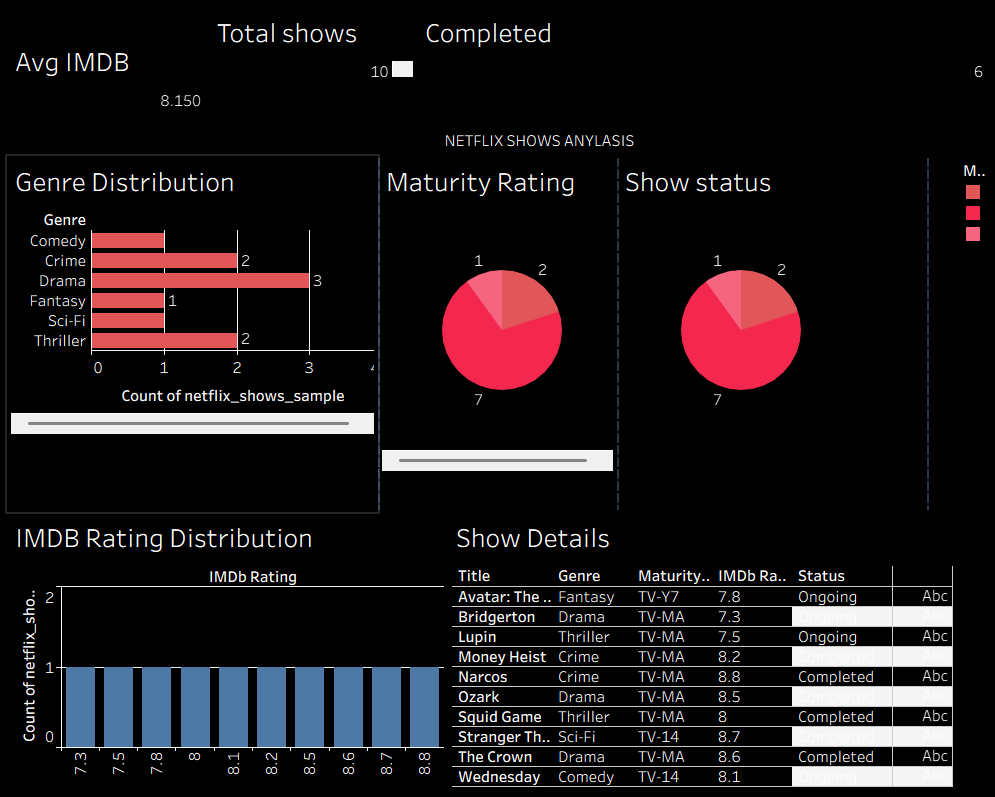

The dashboard page shown, as its layout file describes it:
{"tool":"tableau","page":{"name":"Dashboard 1","canvas":[1000,800],"ordinal":0},"visuals":[{"type":"text","box":[8,8,202,29]},{"type":"worksheet","title":"Total shows","mark":"Automatic","box":[210,8,208,74.5]},{"type":"worksheet","title":"Completed","mark":"Automatic","box":[418,8,574,117]},{"type":"worksheet","title":"Avg IMDB","mark":"Automatic","box":[8,37,202,120]},{"type":"text","box":[210,82.5,208,74.5]},{"type":"text","box":[418,125,574,32]},{"type":"worksheet","title":"Genre Distribution","mark":"Automatic","rows":["Genre"],"cols":["netflix!shows!sample_66F713CF847F47B69A9ED7955B932C50"],"box":[8,157,371,356]},{"type":"worksheet","title":"Maturity Rating","mark":"Pie","box":[379,157,239,356]},{"type":"worksheet","title":"Show status","mark":"Pie","box":[618,157,310,356]},{"type":"legend","title":"Maturity Rating","param":"[federated.0rgx45e0mhom1c18u2cfi1maru8r].[none:Maturity Rating:nk]","box":[960,157,32,93]},{"type":"worksheet","title":"IMDB Rating Distribution","mark":"Automatic","rows":["netflix!shows!sample_66F713CF847F47B69A9ED7955B932C50"],"cols":["IMDb Rating"],"box":[8,513,440.9,279]},{"type":"worksheet","title":"Show Details","mark":"Automatic","rows":["Title","Genre","Maturity Rating","IMDb Rating","Status"],"box":[448.9,513,511.1,279]}]}

Visuals, with their boxes in screenshot pixels (x1, y1, x2, y2), scaled from the page's 1000x800 canvas onto the 995x797 screenshot:
text: 8 8 209 37
"Total shows" worksheet: 209 8 416 82
"Completed" worksheet: 416 8 987 125
"Avg IMDB" worksheet: 8 37 209 156
text: 209 82 416 156
text: 416 125 987 156
"Genre Distribution" worksheet: 8 156 377 511
"Maturity Rating" worksheet (Pie marks): 377 156 615 511
"Show status" worksheet (Pie marks): 615 156 923 511
"Maturity Rating" legend: 955 156 987 249
"IMDB Rating Distribution" worksheet: 8 511 447 789
"Show Details" worksheet: 447 511 955 789
